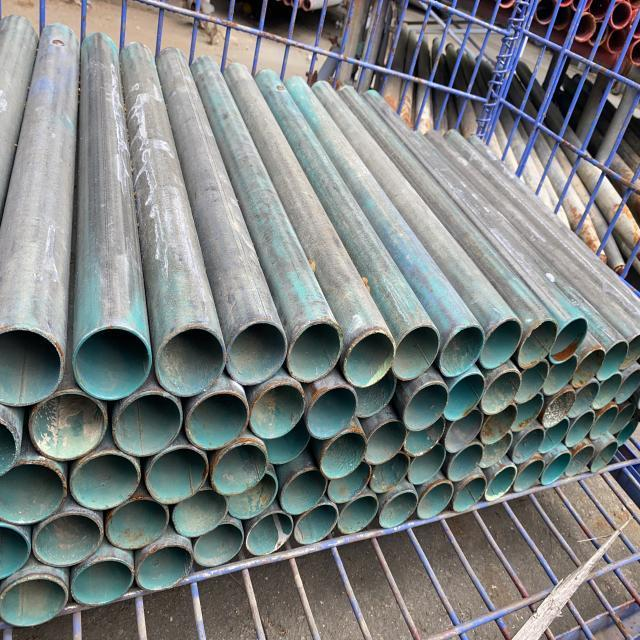pipe: (68, 324, 148, 402), (26, 387, 104, 465), (58, 450, 140, 516), (149, 323, 222, 397), (0, 452, 66, 526), (0, 326, 57, 411), (115, 391, 181, 458), (142, 441, 208, 507), (185, 386, 248, 454), (0, 564, 65, 628), (222, 318, 282, 386), (204, 430, 262, 497), (62, 550, 128, 608), (27, 511, 98, 564), (286, 319, 340, 382), (244, 382, 302, 440), (105, 494, 163, 550), (167, 481, 227, 535), (132, 544, 188, 597), (304, 384, 352, 442), (340, 331, 388, 387), (289, 497, 337, 551), (222, 466, 275, 514), (276, 464, 326, 514), (259, 416, 306, 468), (390, 323, 434, 378), (315, 428, 365, 476), (238, 510, 288, 558), (191, 522, 239, 572), (402, 380, 446, 432), (362, 419, 404, 467), (322, 460, 372, 500), (437, 325, 477, 373), (479, 314, 514, 368), (484, 366, 520, 418), (446, 373, 484, 422), (400, 442, 442, 484), (366, 450, 406, 494), (336, 492, 376, 536), (0, 519, 28, 581), (400, 416, 442, 457), (438, 408, 478, 451), (563, 435, 593, 490), (482, 455, 513, 508), (353, 372, 392, 414), (440, 440, 483, 478), (554, 316, 586, 366), (416, 476, 452, 520), (517, 319, 550, 366), (538, 442, 568, 493), (512, 361, 548, 403), (377, 488, 412, 531), (512, 454, 542, 500), (450, 477, 486, 513), (506, 391, 538, 428), (614, 358, 638, 406), (535, 414, 566, 451), (479, 432, 510, 469), (590, 366, 616, 408), (560, 412, 592, 446), (572, 342, 596, 387), (608, 392, 632, 434), (548, 354, 577, 388), (512, 429, 540, 464), (586, 408, 612, 445), (479, 412, 508, 444), (0, 416, 14, 480), (599, 340, 620, 380), (589, 438, 614, 470), (621, 331, 640, 373), (540, 392, 566, 422), (570, 386, 594, 416)
